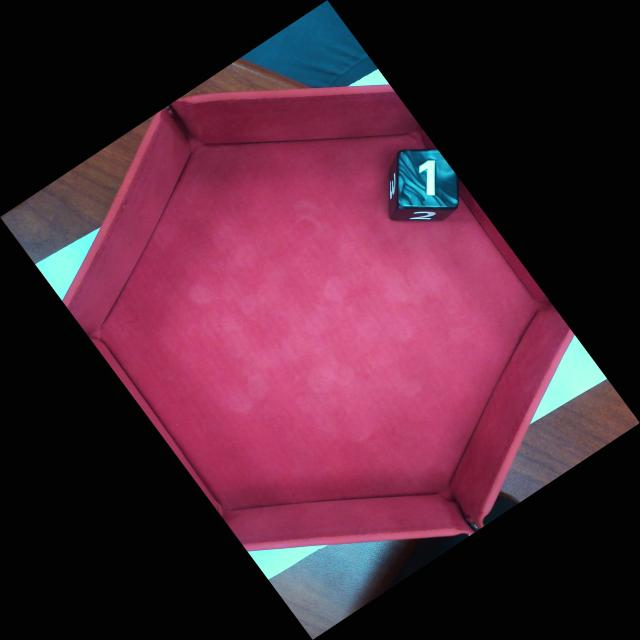dice: (396, 150, 457, 212)
